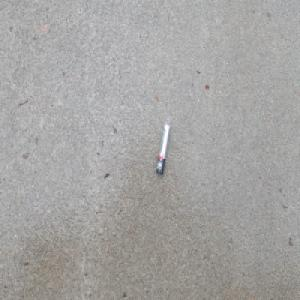Battery: (156, 121, 170, 176)
